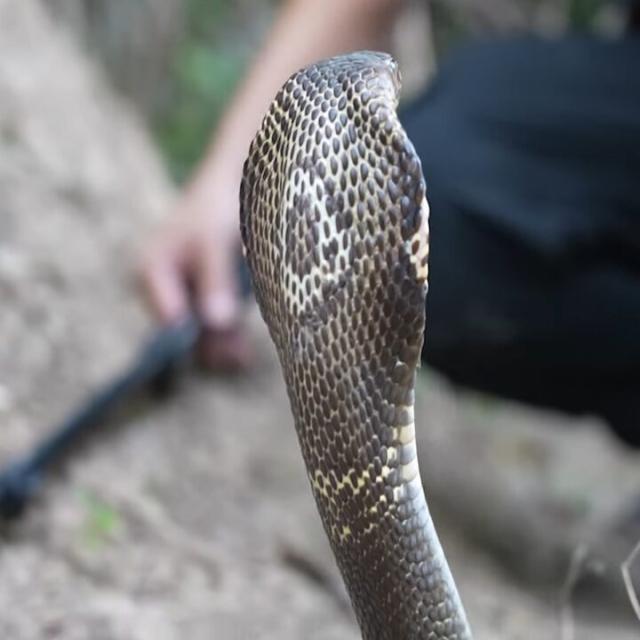Venomous: (245, 29, 454, 401)
